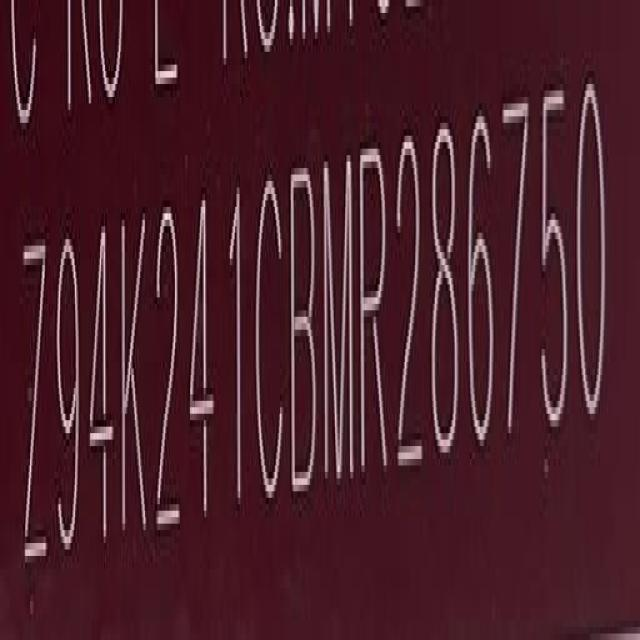0: (576, 82, 608, 431)
1: (227, 182, 243, 510)
2: (394, 124, 425, 483), (154, 200, 182, 546)
4: (189, 187, 218, 534), (88, 219, 117, 557)
5: (542, 80, 570, 442)
6: (466, 103, 497, 451)
7: (505, 88, 535, 449)
8: (430, 120, 459, 460)
9: (52, 229, 80, 567)
B: (292, 158, 322, 502)
C: (254, 180, 284, 508)
K: (120, 214, 149, 552)
M: (322, 150, 354, 492)
R: (358, 140, 388, 484)
Z: (20, 237, 48, 585)
